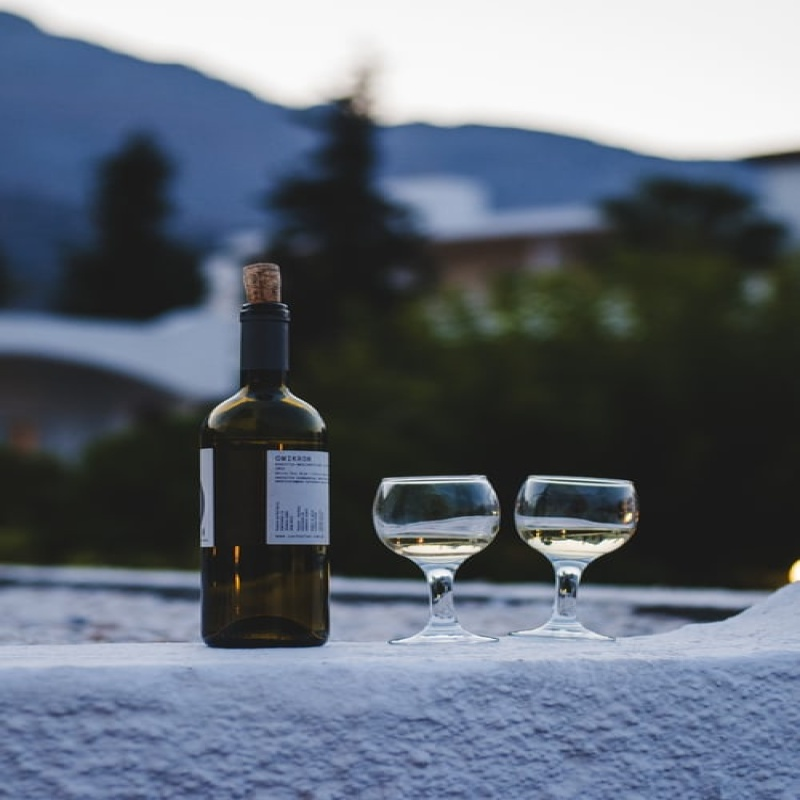wine: (194, 260, 336, 647)
